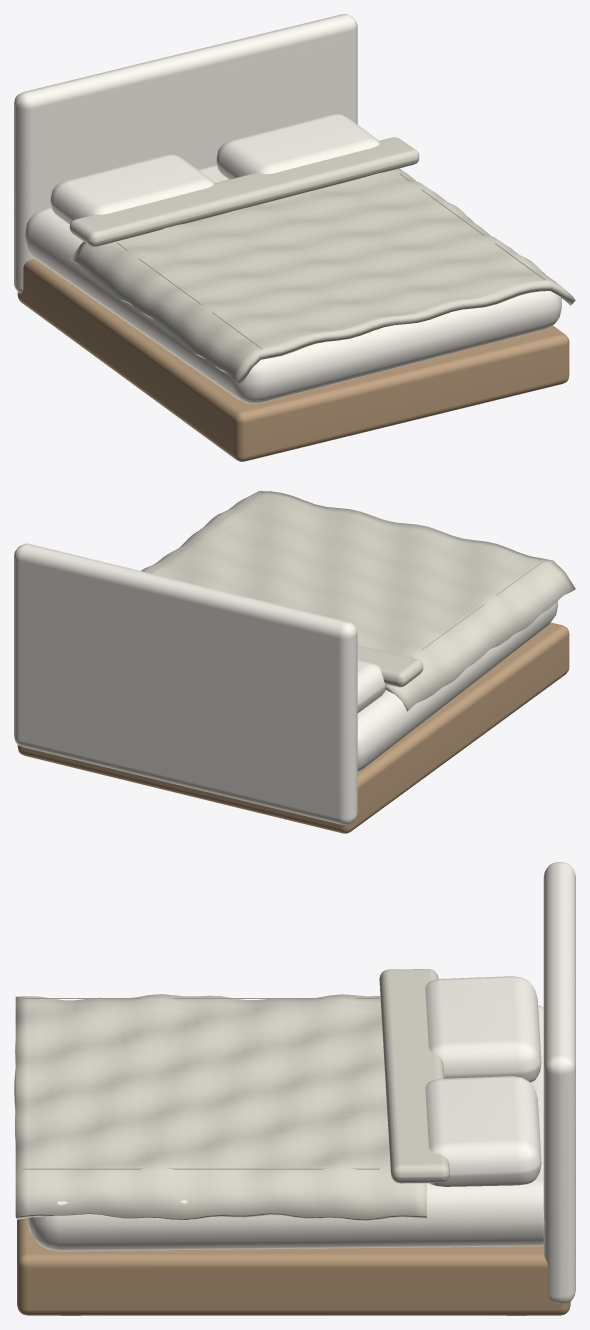
File: minoom-bed.glb
3 renders of one model, top to bottom at view 1: azimuth 30°, elevation 25°; view 2: azimuth 150°, elevation 25°; view 3: azimuth 270°, elevation 25°, orthographic. The views are drawn at different scales.
Parts seen in each view (by area): view 1: Padded headboard, Draped duvet, Bed base; view 2: Padded headboard, Draped duvet, Bed base; view 3: Draped duvet, Padded headboard, Bed base, Hem stitching.
Boxes of the visible parts, left/top/right/bottom form: Padded headboard: left=14, top=14, right=561, bottom=403; Draped duvet: left=69, top=137, right=575, bottom=384; Bed base: left=17, top=258, right=569, bottom=461; Padded headboard: left=14, top=543, right=557, bottom=824; Draped duvet: left=141, top=491, right=575, bottom=711; Bed base: left=17, top=622, right=569, bottom=833; Draped duvet: left=14, top=969, right=449, bottom=1221; Padded headboard: left=27, top=862, right=575, bottom=1304; Bed base: left=17, top=1218, right=570, bottom=1315; Hem stitching: left=22, top=998, right=379, bottom=1169.
Size of the model in its own units: 1.8 by 1.12 by 2.09.
4 materials, 1 textured.
